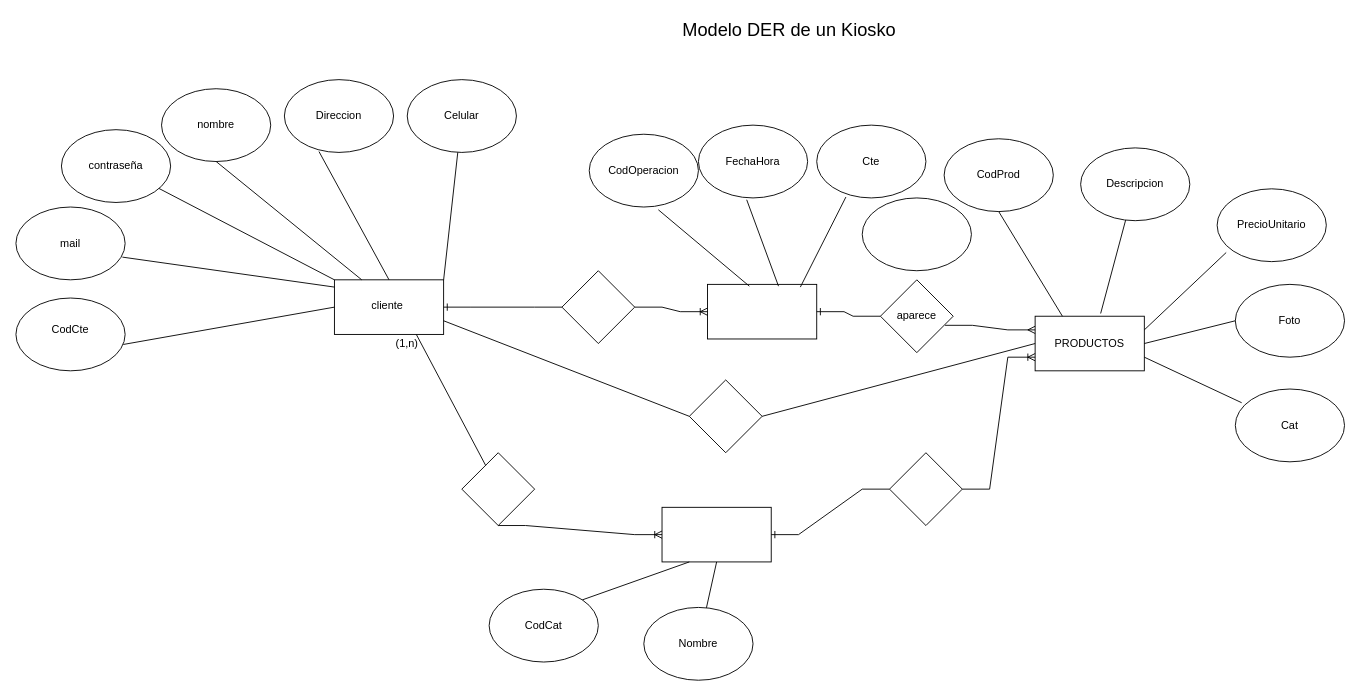
This 1360x696 diagram has some shape labels left out. The centre of each missing label's shape, as x and y in pixels:
Categoria: (716,534)
Compra: (725,416)
Elige: (498,489)
obtiene: (598,307)
Producto: (916,234)
Ticket: (762,311)
Tiene: (925,489)
